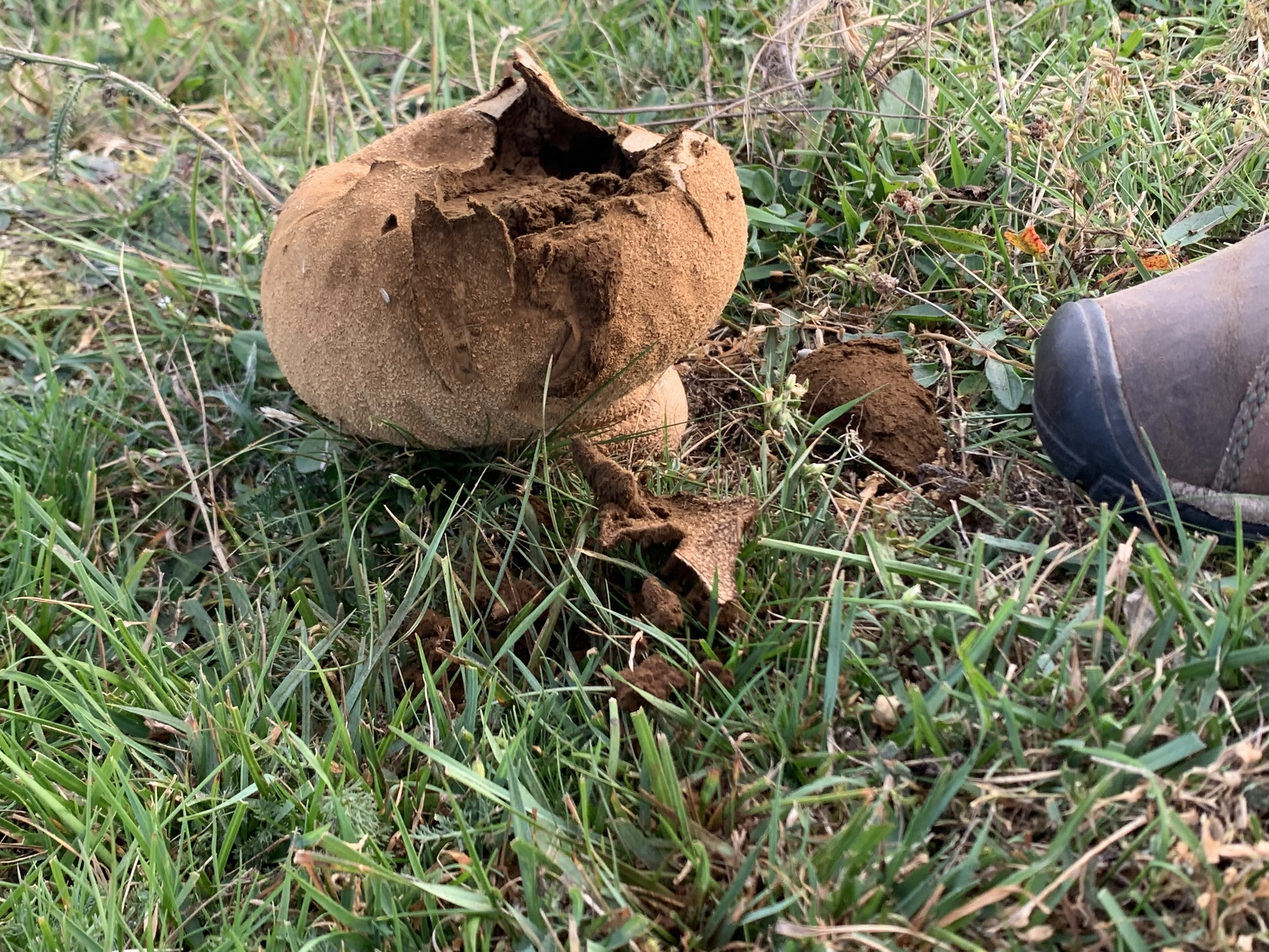Cap: (261, 55, 745, 447)
